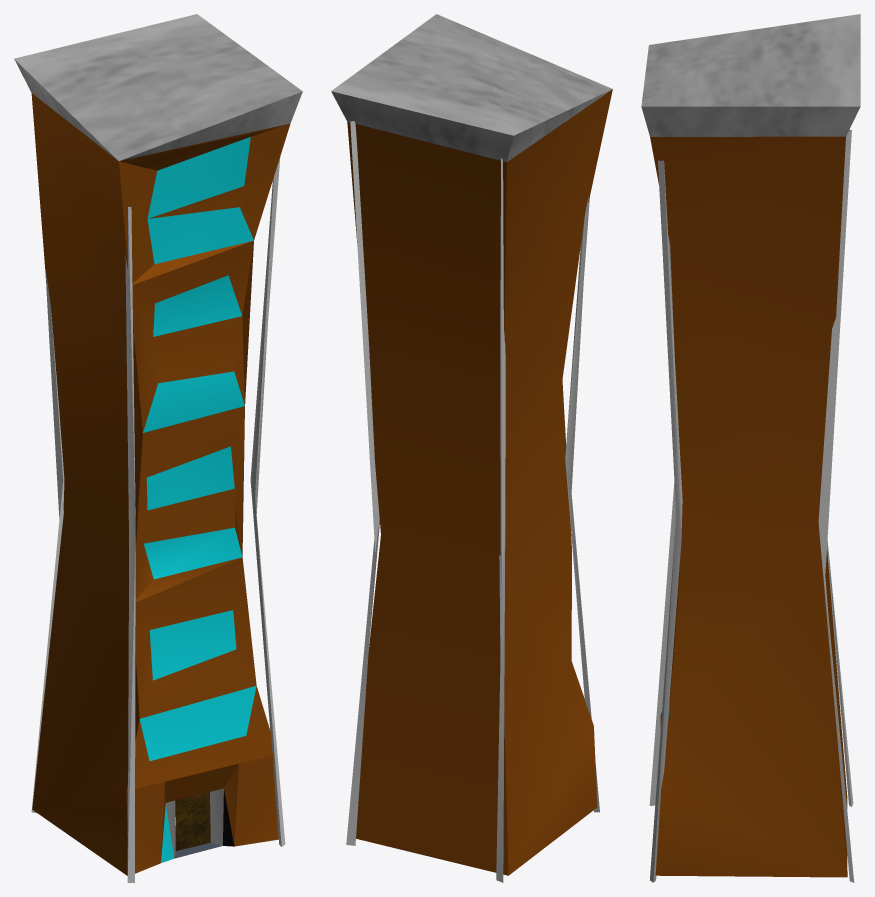
Rendered from PredioAltoFino-LaranjaEscuroLOD2.fbx.
3 renders of one model, left to right at view 1: azimuth 30°, elevation 25°; view 2: azimuth 150°, elevation 25°; view 3: azimuth 270°, elevation 25°, orthographic. The views are drawn at different scales.
Visible parts, largest first — view 1: PredioAltoFinoLOD2; view 2: PredioAltoFinoLOD2; view 3: PredioAltoFinoLOD2.
Part boxes in pixels (left/top/right/bottom): PredioAltoFinoLOD2: left=14, top=14, right=302, bottom=882; PredioAltoFinoLOD2: left=331, top=14, right=612, bottom=882; PredioAltoFinoLOD2: left=641, top=14, right=860, bottom=882.
Bounding box in the file's own units: 635 × 2499 × 635.
